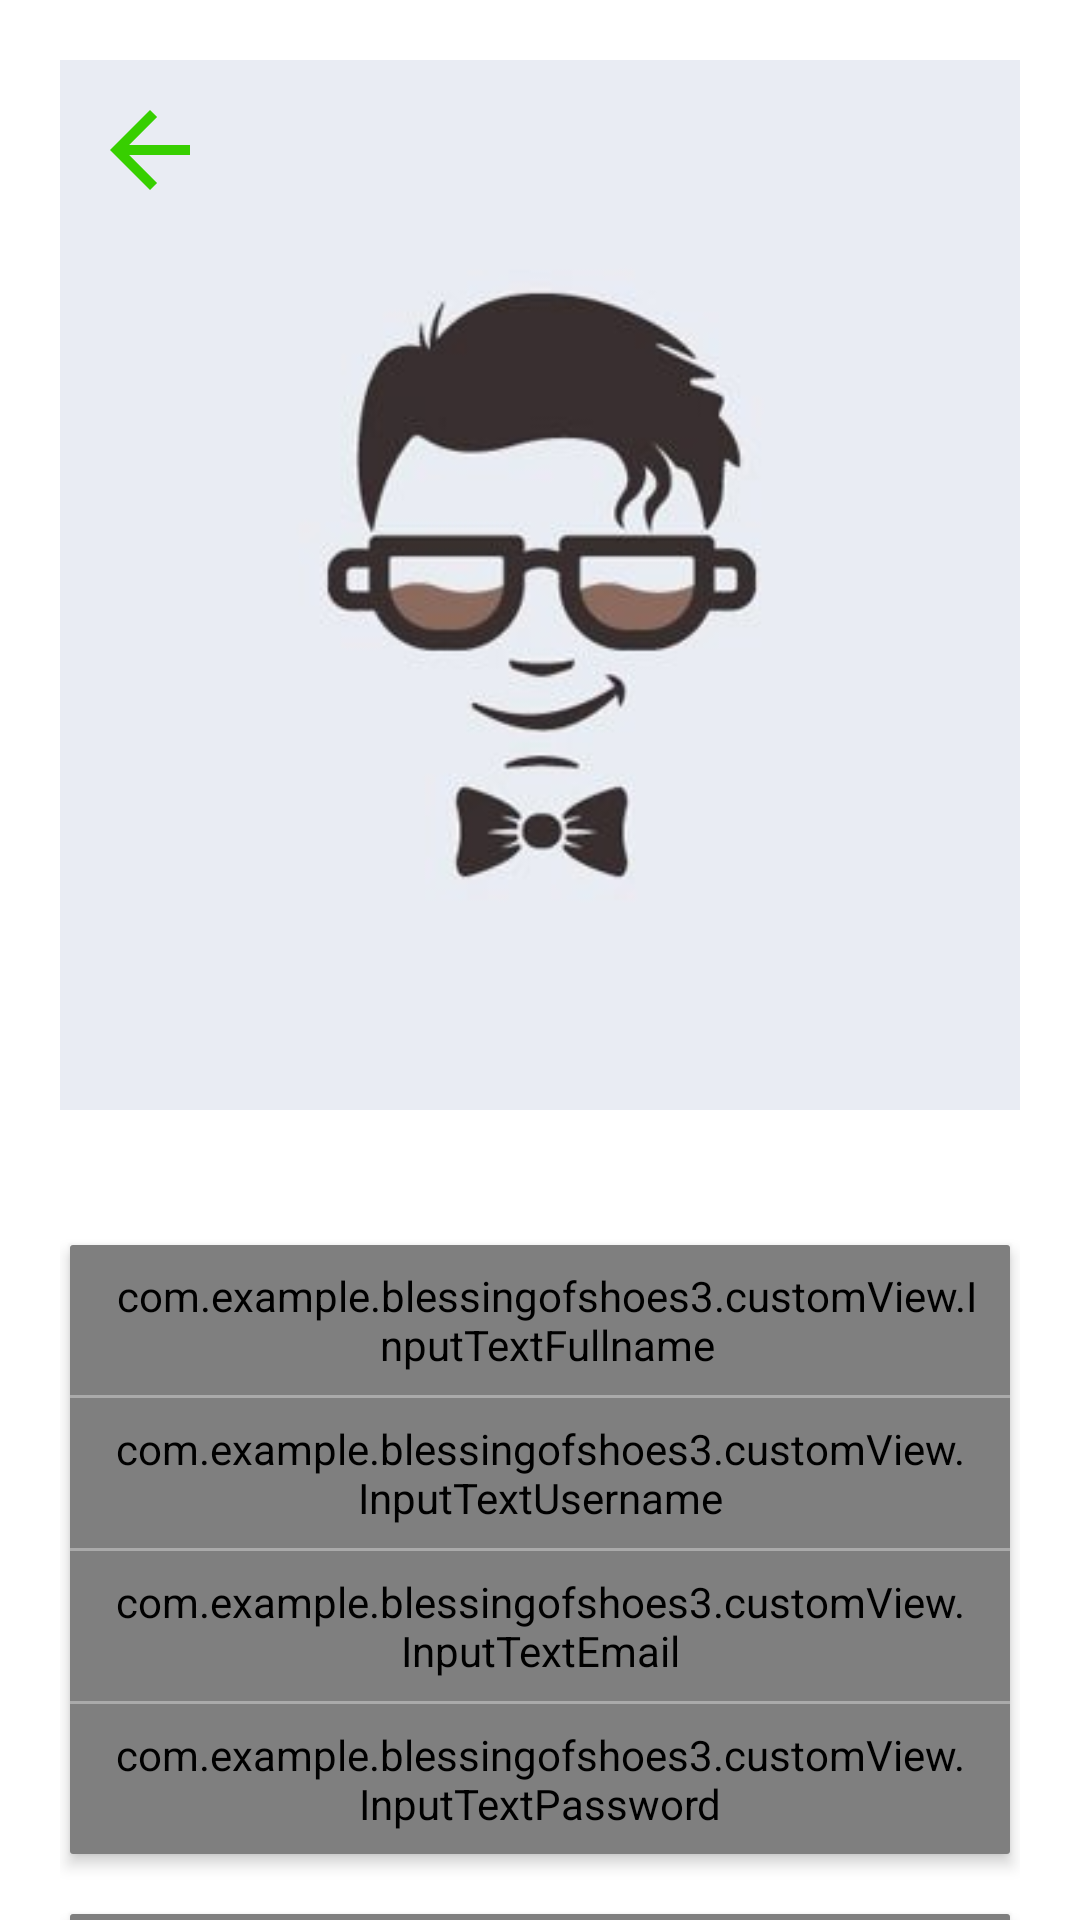

Icons on this 1080×1920 Android screen, each with its box as (x1, y1, x2, y2):
arrow back: (110, 110, 190, 190)
